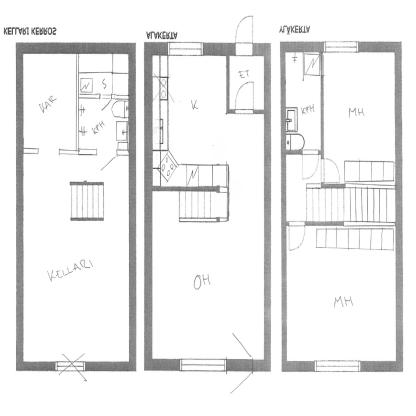door: (228, 333, 256, 396), (235, 12, 254, 56), (234, 82, 255, 115), (289, 220, 306, 254), (302, 149, 319, 182), (321, 158, 340, 185), (98, 150, 116, 172), (99, 92, 114, 112)
window: (180, 358, 226, 370), (167, 40, 204, 54), (314, 362, 361, 372), (324, 41, 358, 52), (55, 362, 85, 371)
zone: (153, 55, 264, 358), (22, 52, 130, 361), (285, 226, 395, 360), (323, 52, 395, 185), (286, 152, 396, 222), (284, 52, 321, 148), (229, 55, 264, 111)
